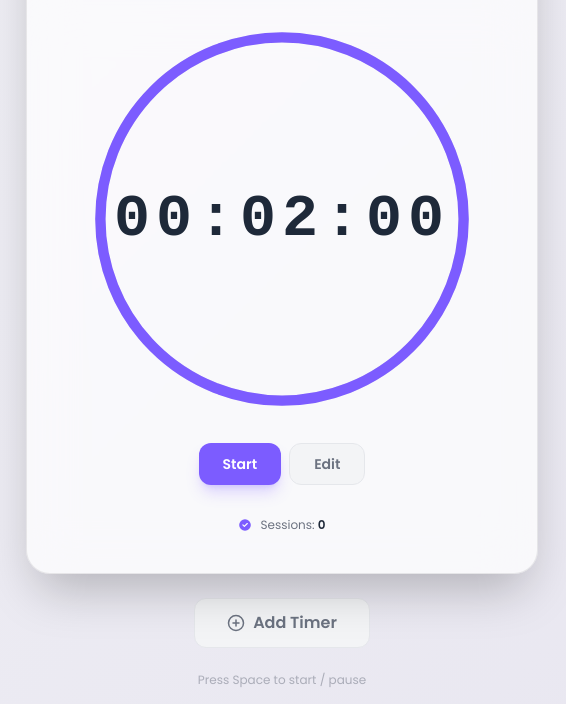
Focus Timer › Start Timer › should begin countdown when Start is clicked
This screenshot has width=566, height=704.
(page scrolled)
What coordinates should you click on to do the following:
click the button "Start"
I would click on:
 (240, 464)
Its box is [199, 443, 281, 485].
Wait 1000 ms
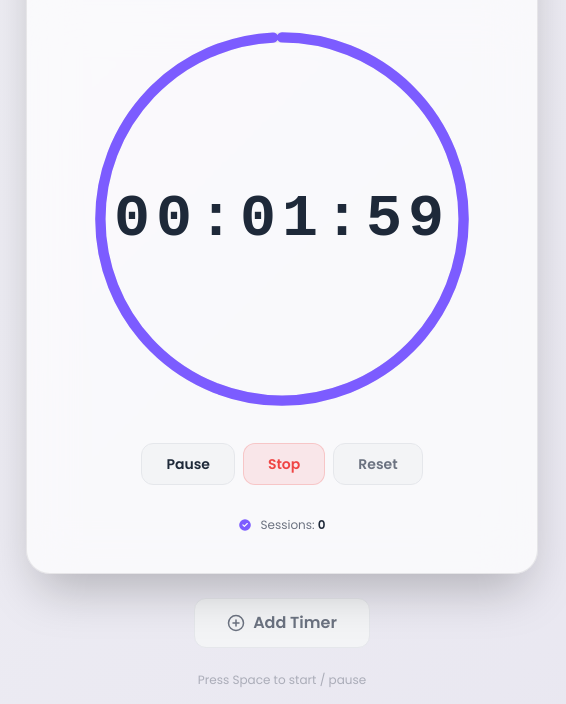
expect the text "00:01:59" is shown: met, box [114, 189, 450, 249]
